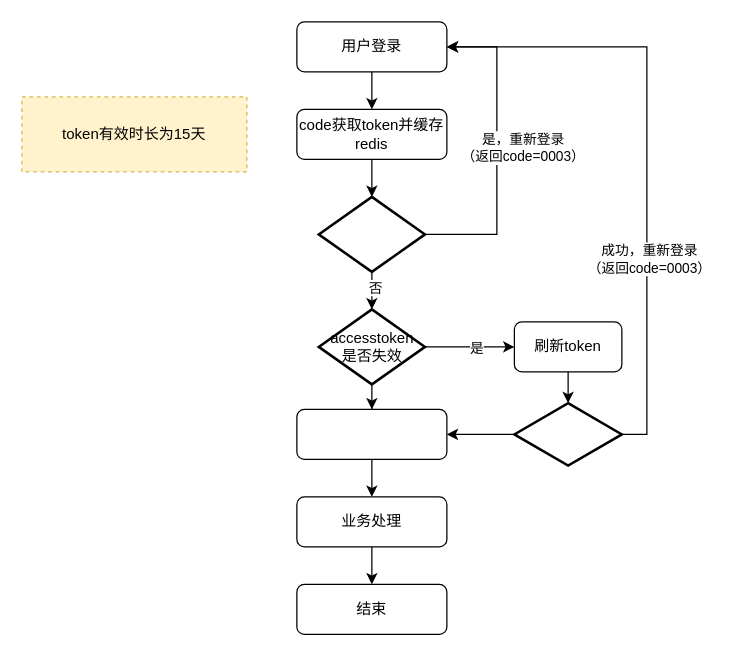
The diagram is 733 pixels wide and 656 high, and some of its shapes have lost their labels. The centre of each missing label's shape, as x and y in pixels:
是否成功: (x=567, y=433)
缓存是否失效: (x=371, y=233)
获取用户accesstoken: (x=371, y=433)
